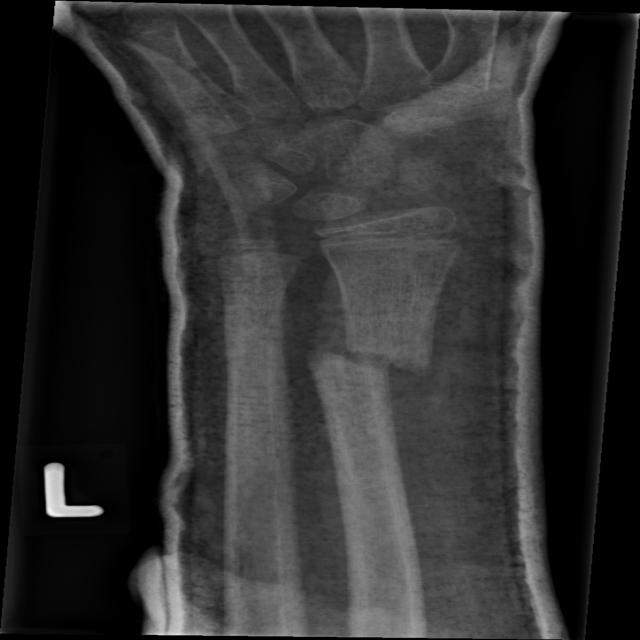radius fracture: (293, 300, 456, 432)
